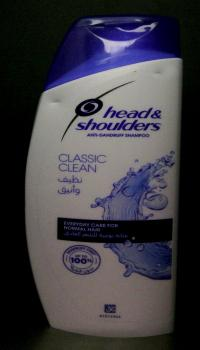dent_unacceptable: (45, 92, 70, 116), (142, 62, 170, 82)
